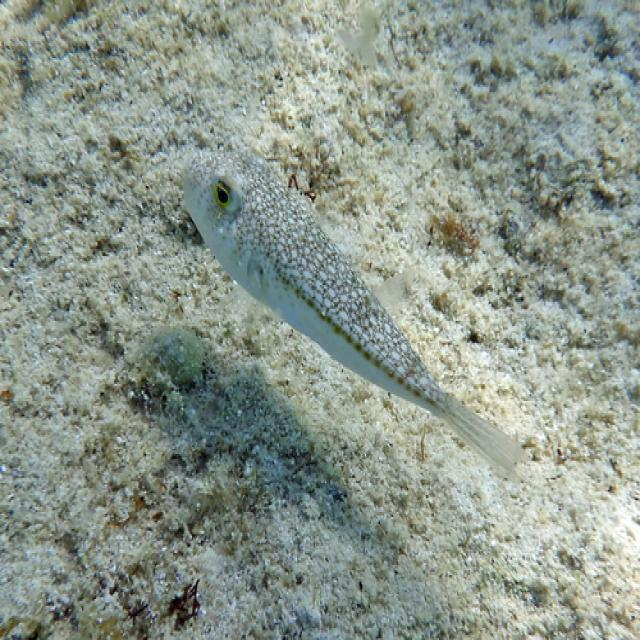Balik: (184, 152, 524, 477)
